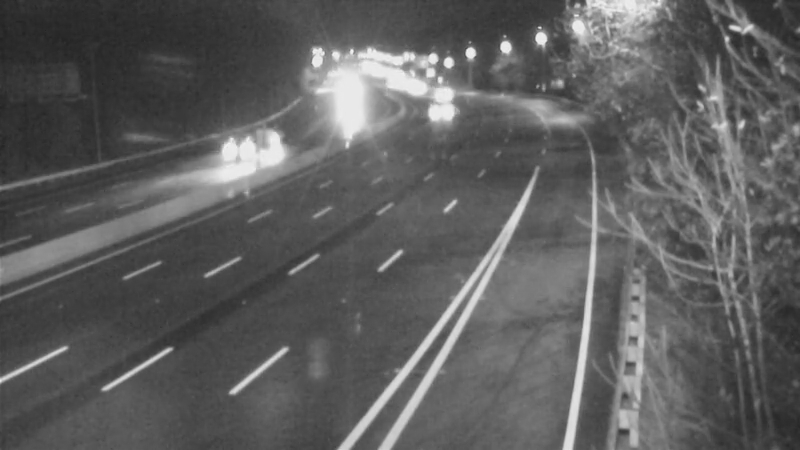vehicle: (415, 68, 465, 118), (418, 86, 468, 136), (211, 125, 261, 175)
